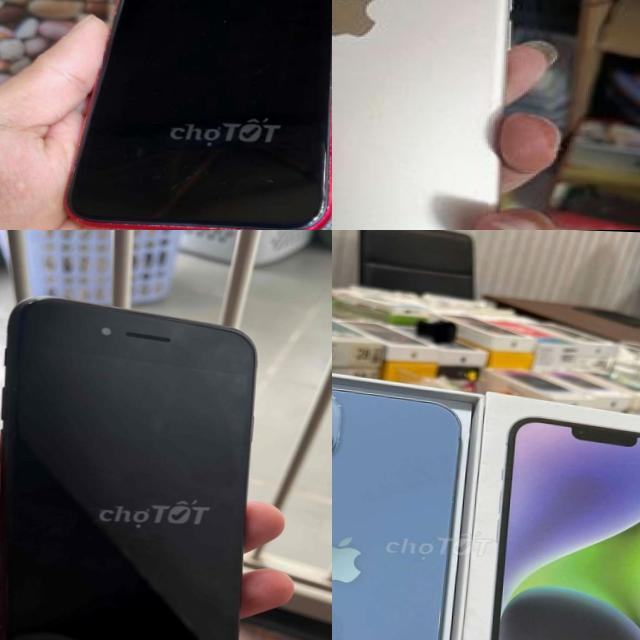gen_14: (332, 376, 457, 640)
gen_7_8: (0, 286, 266, 640), (332, 0, 542, 230)
gen_x_xs: (66, 0, 332, 230), (67, 0, 332, 230)
